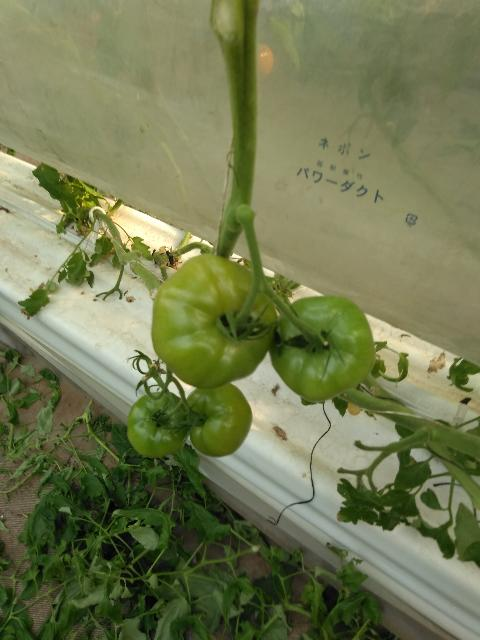b_green: (150, 253, 278, 389), (269, 296, 376, 402), (185, 383, 253, 457), (127, 392, 190, 458)
